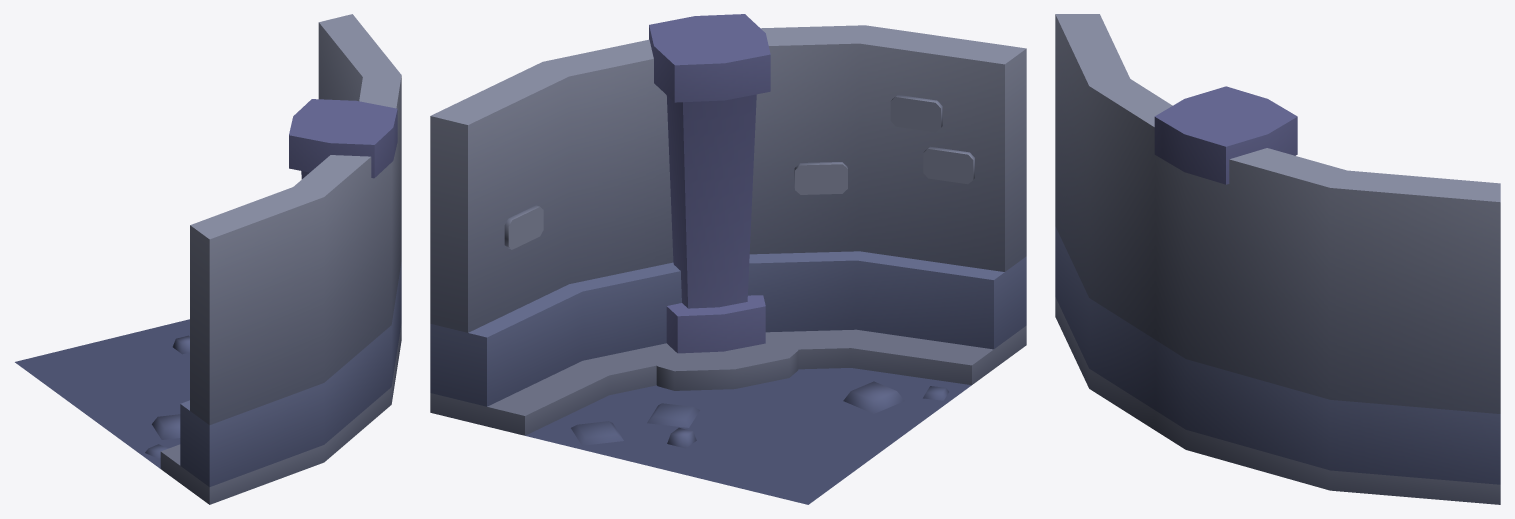
Rendered from template-corner.glb.
The picture shows the model from 3 angles, left to right: view 1: azimuth 30°, elevation 25°; view 2: azimuth 150°, elevation 25°; view 3: azimuth 270°, elevation 25°; orthographic projection. The views are drawn at different scales.
Parts seen in each view (by area): view 1: template-corner; view 2: template-corner; view 3: template-corner.
Part boxes in pixels (bbox=[...]): template-corner: bbox=[15, 14, 401, 504]; template-corner: bbox=[430, 14, 1026, 504]; template-corner: bbox=[1055, 14, 1500, 504].
Bounding box in the file's own units: 4 × 3.13 × 4.
